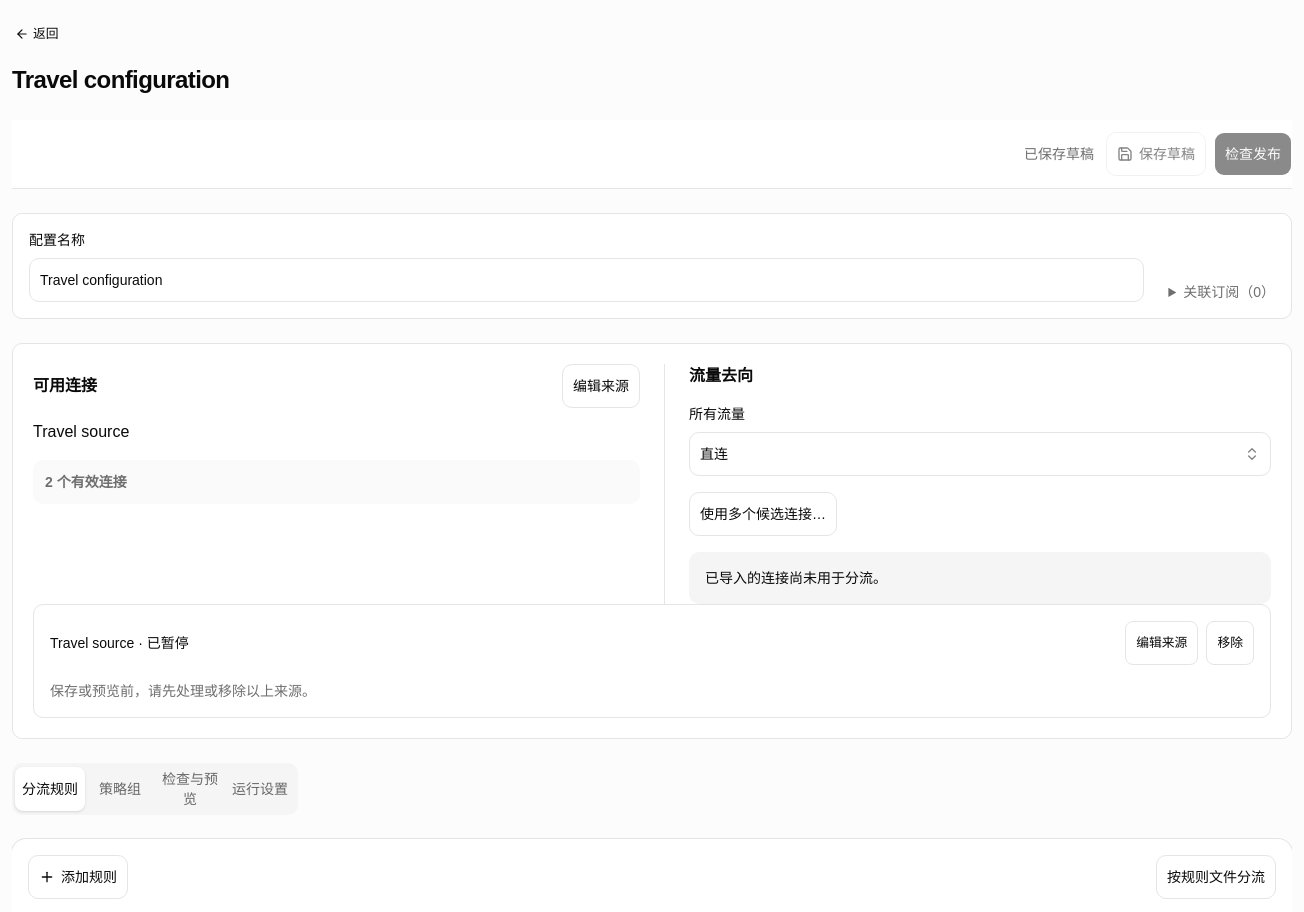
Scenario: keeps unavailable source repair visible and opens the real selector when removing its reference
The image size is (1304, 912).
Check: the button with aria-label "编辑来源 Travel source" is shown, box [1125,621,1198,665]
Click the button with aria-label "移除来源 Travel source" at (1230, 643), box [1206,621,1254,665]
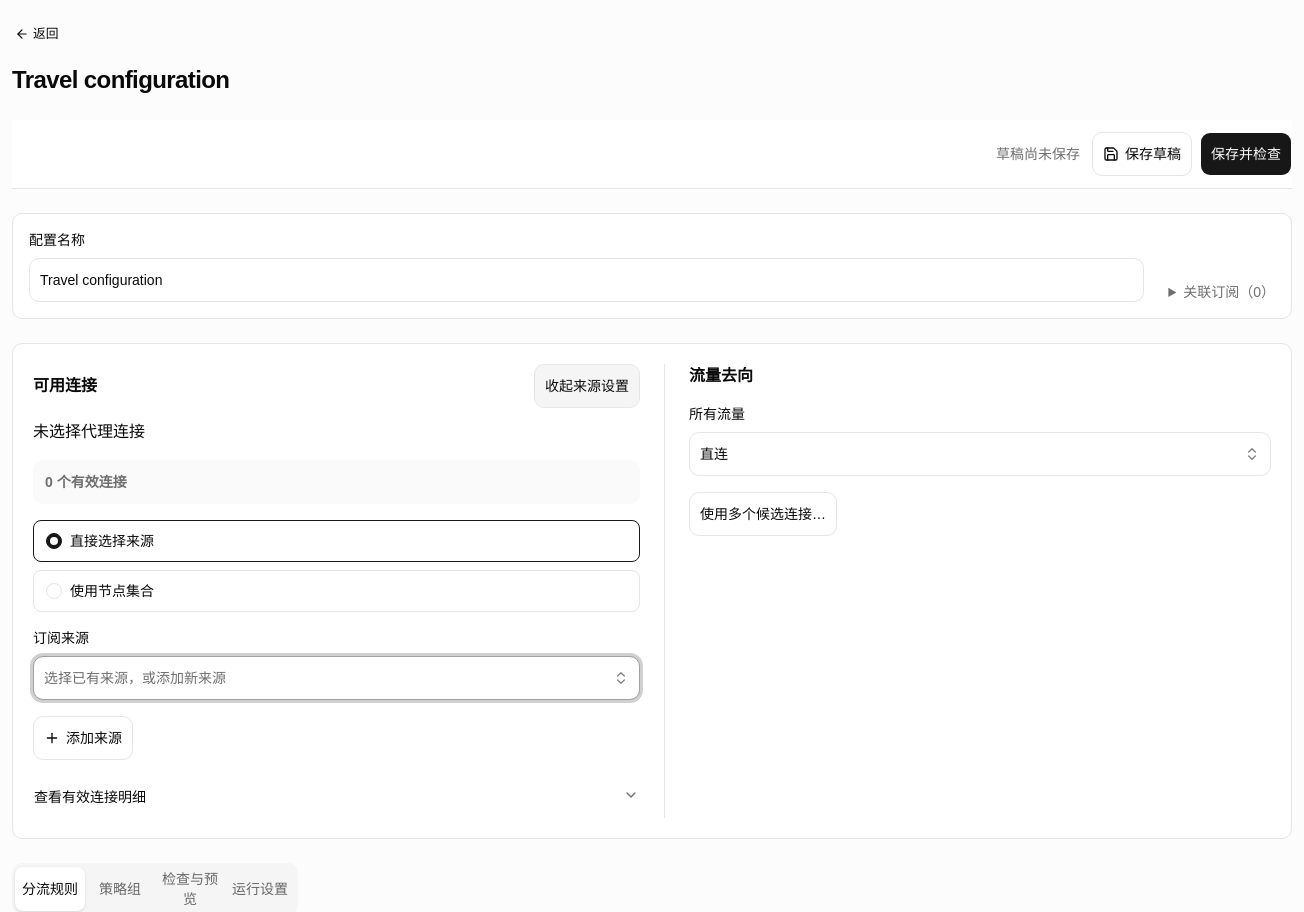
Check: the button "收起来源设置" is shown, box [534,364,640,408]
